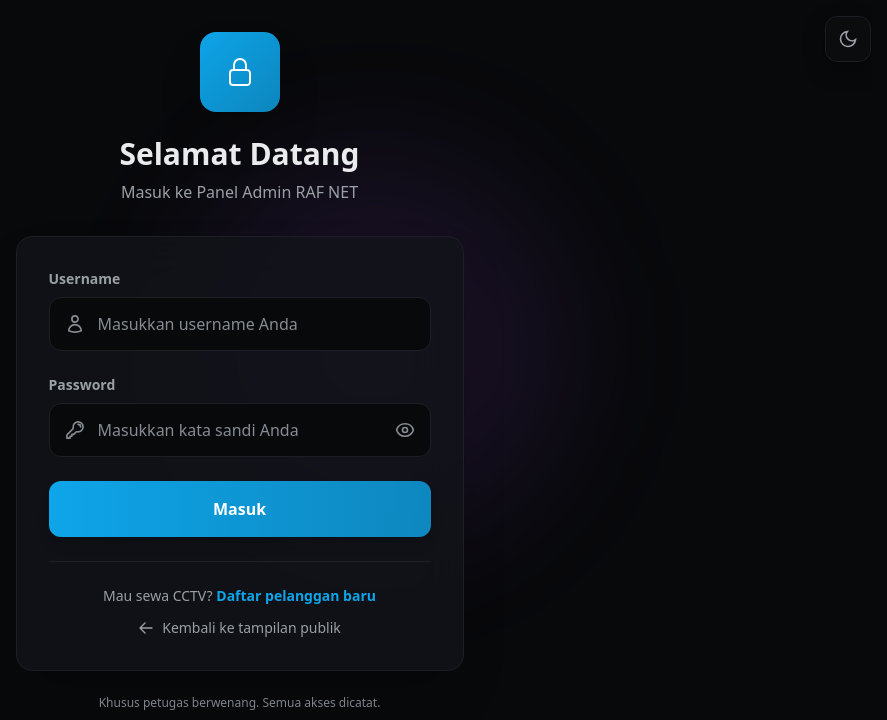
Test case: LoginPage — TOTP second factor › swaps to the code step when login returns requiresTwoFactor — no navigate yet
Type "admin" into the field labelled "Username" at (240, 324), box [48,297,430,351]
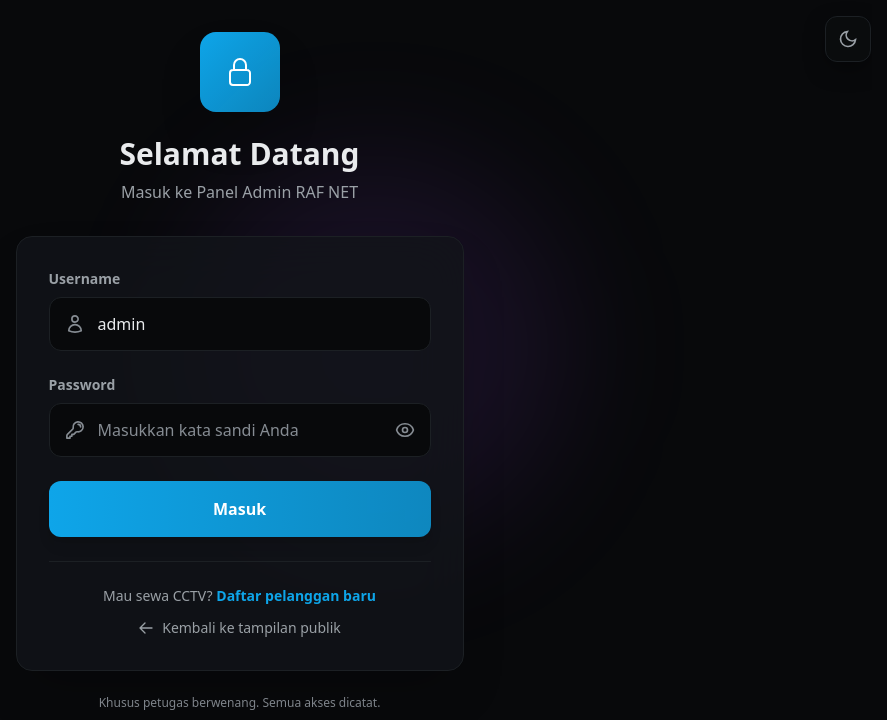
Type "secret" into the password field labelled "Password" at (240, 430), box [48,403,430,457]
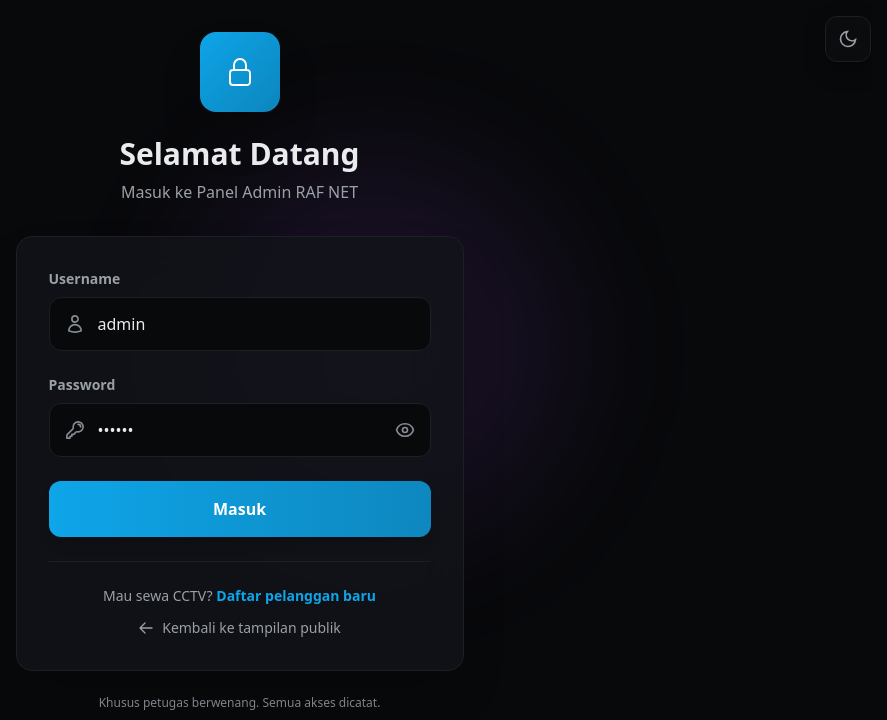
Click the button "Masuk" at (240, 509), box [48,481,430,537]
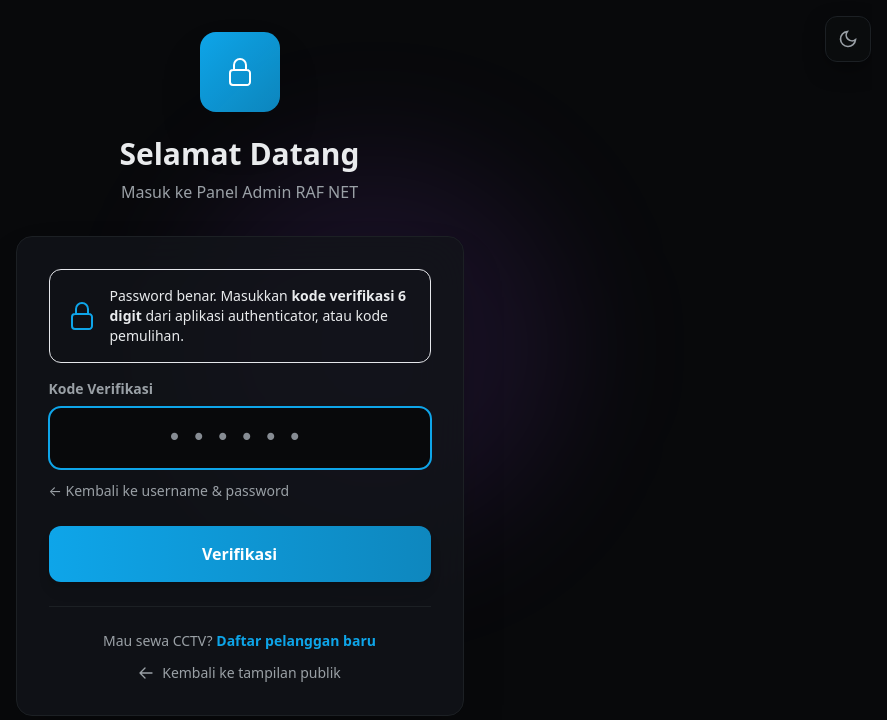
Expected: the field labelled "Kode Verifikasi" is shown, [48,407,430,469]
Expected: the button "Verifikasi" is shown, [48,526,430,582]
